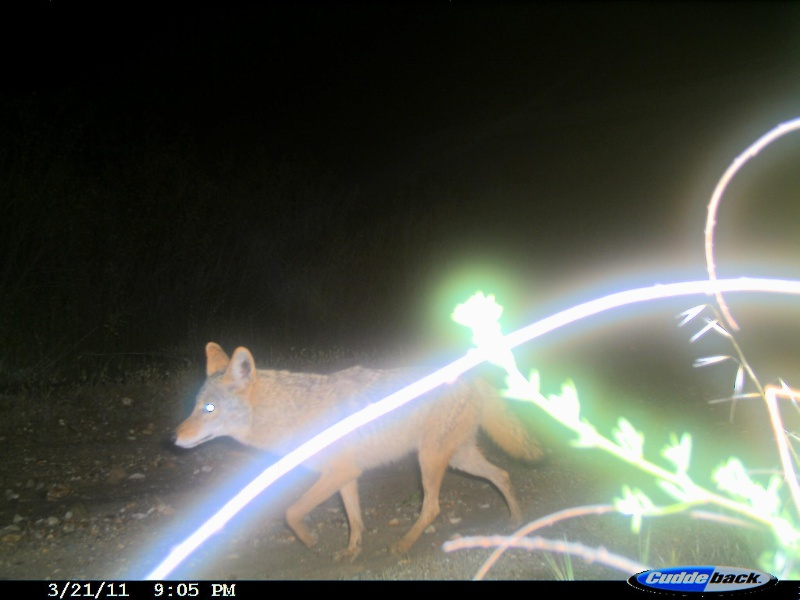coyote: (165, 335, 540, 566)
